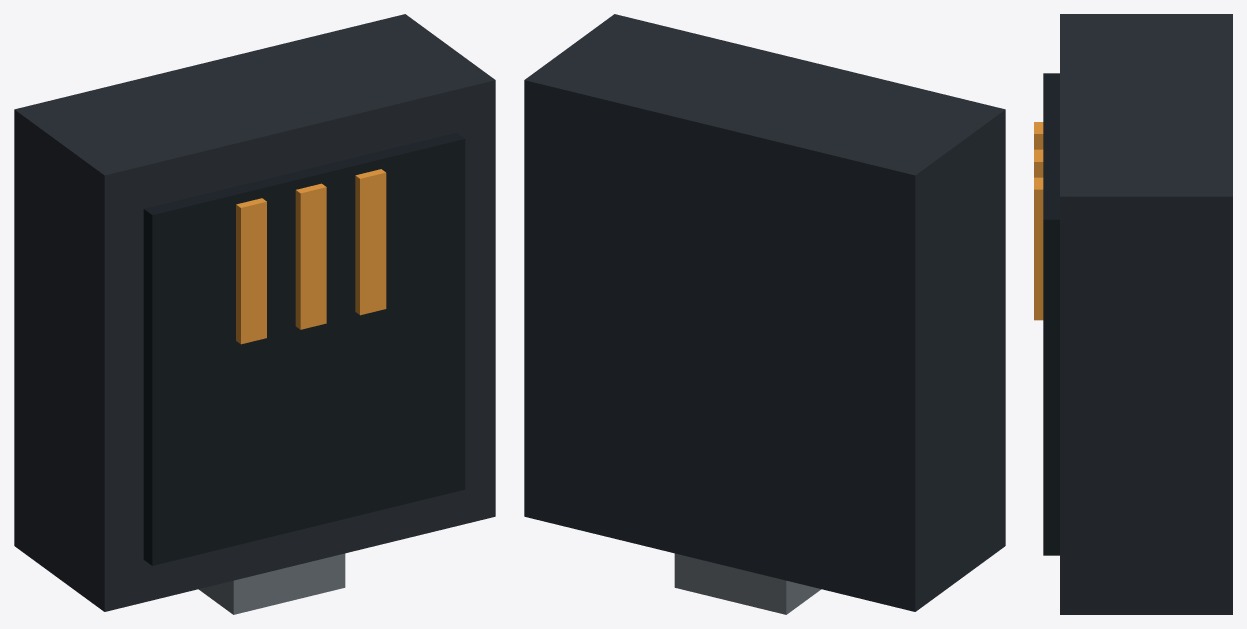
File: high_density_battery_pack.glb
3 renders of one model, left to right at view 1: azimuth 30°, elevation 25°; view 2: azimuth 150°, elevation 25°; view 3: azimuth 270°, elevation 25°, orthographic. The views are drawn at different scales.
Visible parts, largest first — view 1: Cartridge, CartridgeFace, LockTab, CapacityStripe.001, CapacityStripe.002, CapacityStripe; view 2: Cartridge, LockTab; view 3: Cartridge, CartridgeFace, CapacityStripe.002, CapacityStripe.001.
Boxes of the visible parts, bbox=[...] form: Cartridge: bbox=[14, 14, 495, 611]; CartridgeFace: bbox=[143, 132, 465, 565]; LockTab: bbox=[198, 553, 345, 614]; CapacityStripe.001: bbox=[295, 183, 326, 329]; CapacityStripe.002: bbox=[355, 169, 386, 315]; CapacityStripe: bbox=[236, 198, 266, 344]; Cartridge: bbox=[524, 14, 1005, 611]; LockTab: bbox=[674, 553, 821, 614]; Cartridge: bbox=[1060, 14, 1232, 614]; CartridgeFace: bbox=[1043, 73, 1059, 555]; CapacityStripe.002: bbox=[1034, 177, 1043, 320]; CapacityStripe.001: bbox=[1034, 149, 1043, 177].
Size of the model in its own units: 1.05 by 1.24 by 0.4825.
